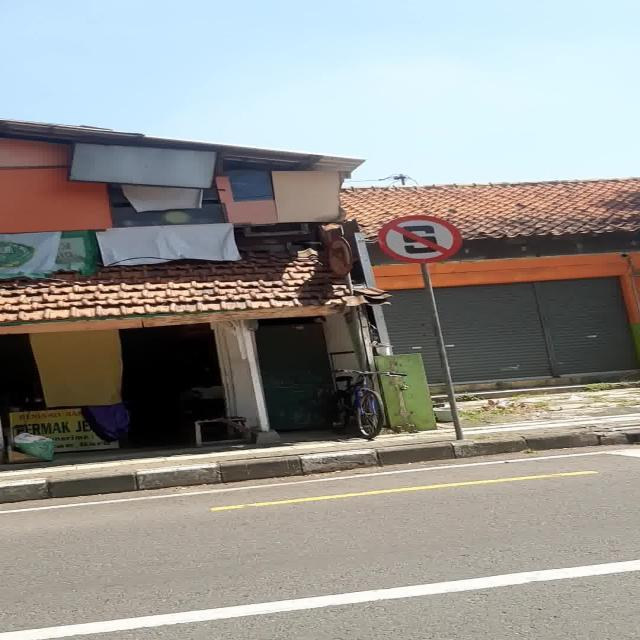Dilarang Berhenti: (379, 215, 462, 263)
